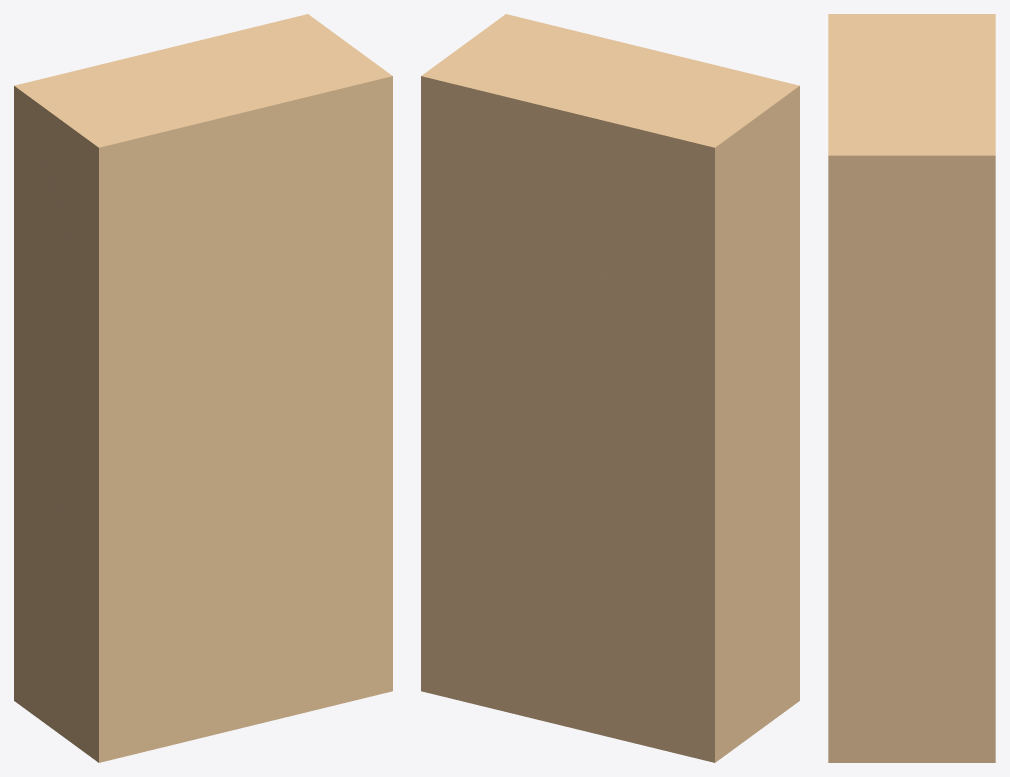
Rendered from tool_6-Group_38.gltf.
3 views of the same model, side by side, from view 1: azimuth 30°, elevation 25°; view 2: azimuth 150°, elevation 25°; view 3: azimuth 270°, elevation 25° (orthographic).
Parts seen in each view (by area): view 1: <组件#62>_14, <组件#62>_12, <组件#62>_13, <组件#62>_15; view 2: <组件#62>_14, <组件#62>_12, <组件#62>_13, <组件#62>_15; view 3: <组件#62>_14, <组件#62>_13, <组件#62>_12, <组件#62>_15.
Boxes of the visible parts, left/top/right/bottom form: <组件#62>_14: left=14, top=14, right=392, bottom=301; <组件#62>_12: left=14, top=383, right=392, bottom=608; <组件#62>_13: left=14, top=230, right=392, bottom=455; <组件#62>_15: left=14, top=537, right=392, bottom=762; <组件#62>_14: left=421, top=14, right=799, bottom=301; <组件#62>_12: left=421, top=383, right=799, bottom=608; <组件#62>_13: left=421, top=230, right=799, bottom=455; <组件#62>_15: left=421, top=537, right=799, bottom=762; <组件#62>_14: left=828, top=14, right=995, bottom=307; <组件#62>_13: left=828, top=307, right=995, bottom=459; <组件#62>_12: left=828, top=459, right=995, bottom=610; <组件#62>_15: left=828, top=611, right=995, bottom=762.
Bounding box in the file's own units: 15.75 × 31.5 × 7.87.
